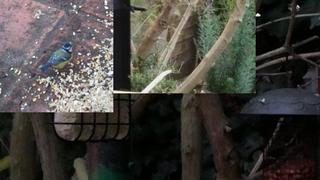blue tit: (40, 40, 73, 72)
